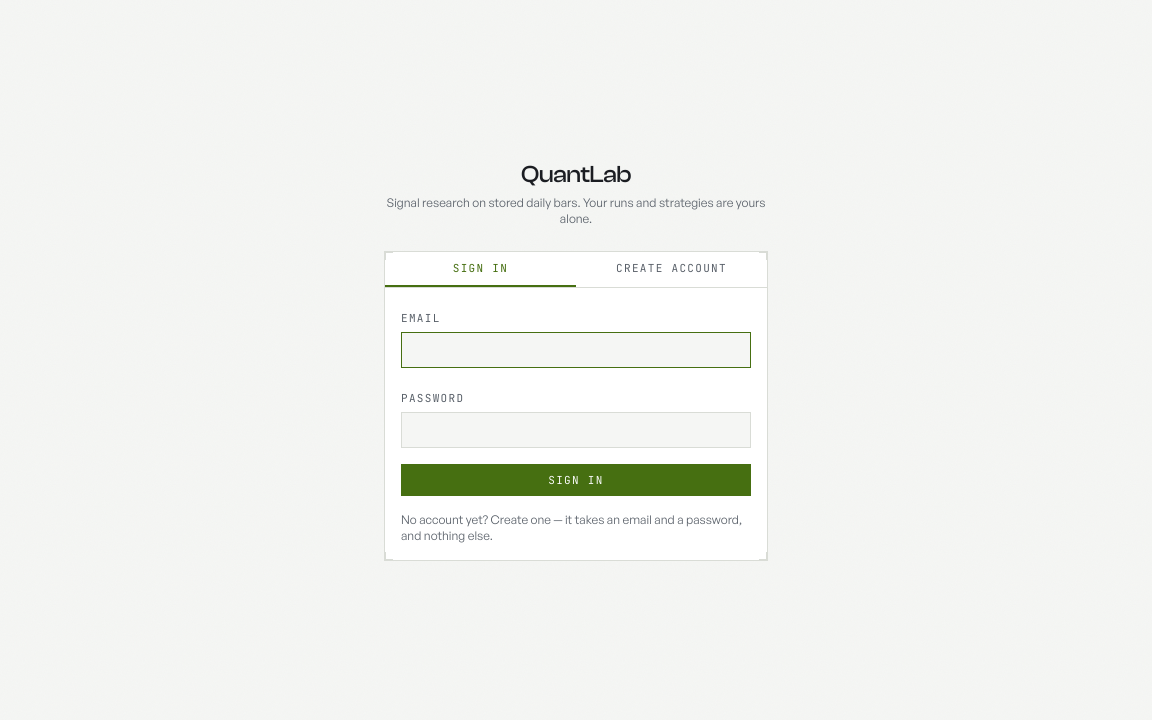
Test: LoginScreen › shows the strength hint only on the register tab
The width and height of the screenshot is (1152, 720).
Click the tab "Create account". click: (672, 270)
box: left=576, top=252, right=767, bottom=287
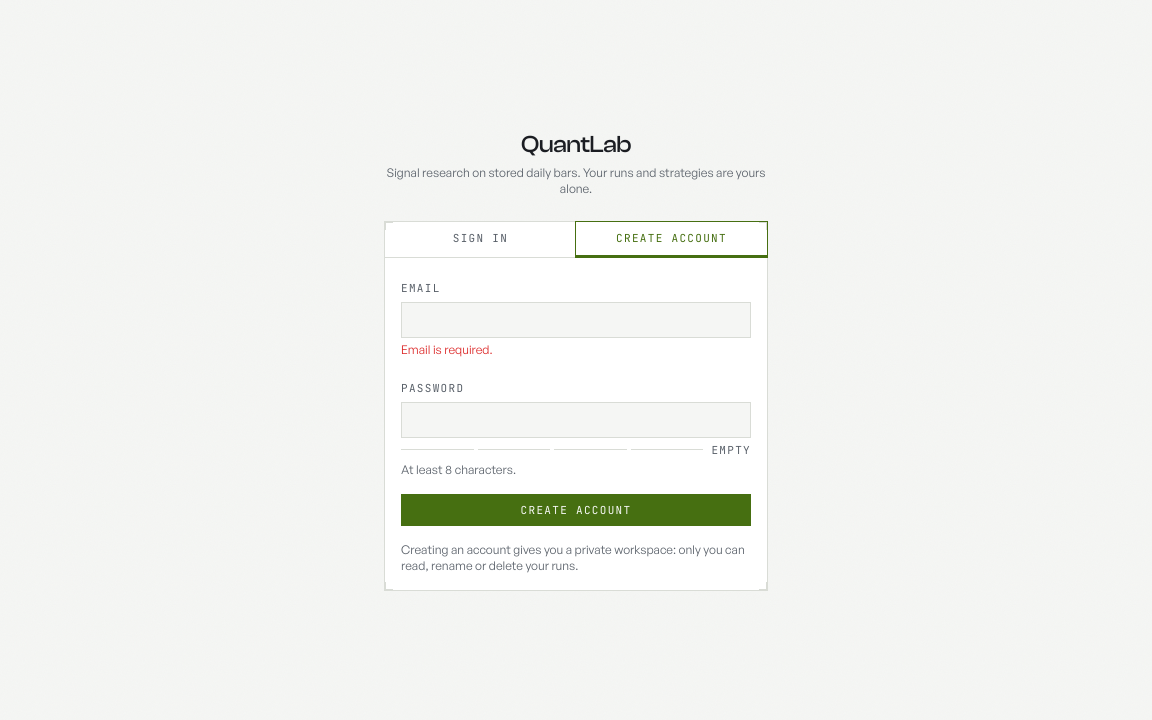
Type "Correct-Horse-9" into the password field labelled "Password". click: (576, 420)
box: left=401, top=402, right=751, bottom=438
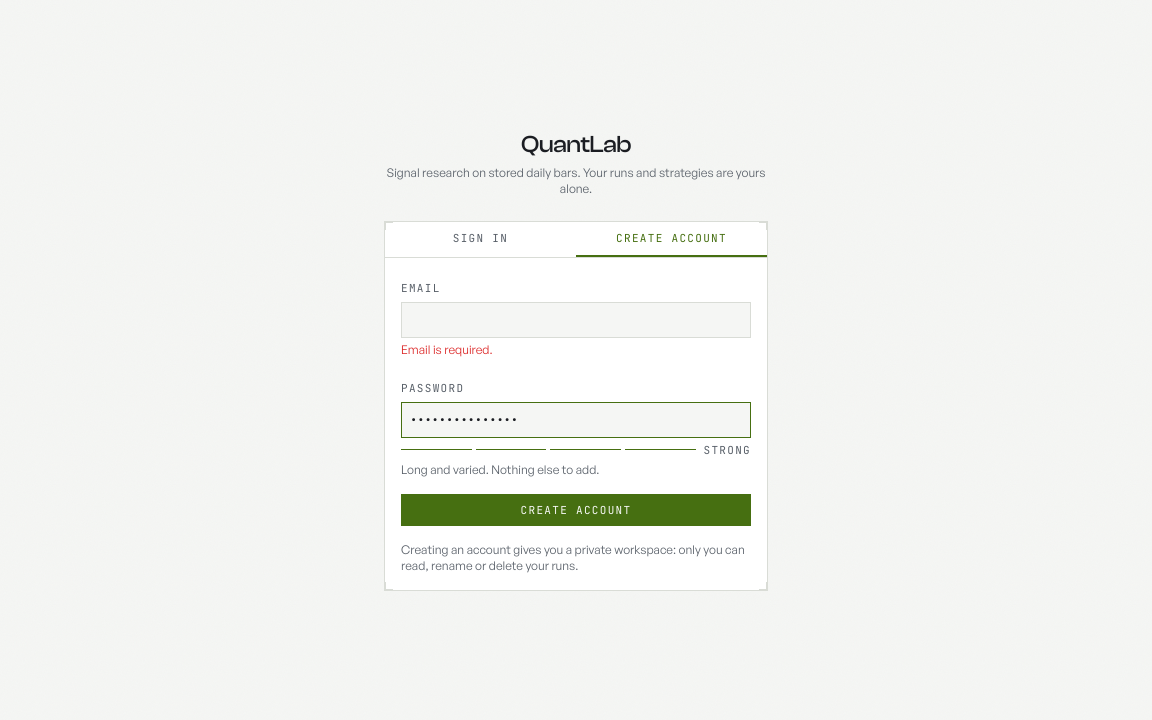
Now the element with test id "password-strength" shows "Strong", box left=704, top=442, right=751, bottom=456
